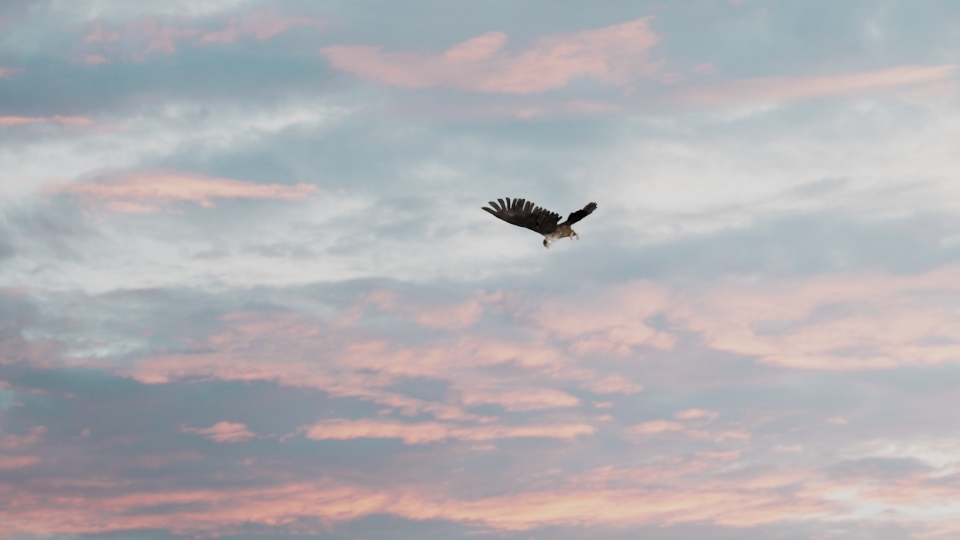bird: (479, 194, 596, 251)
